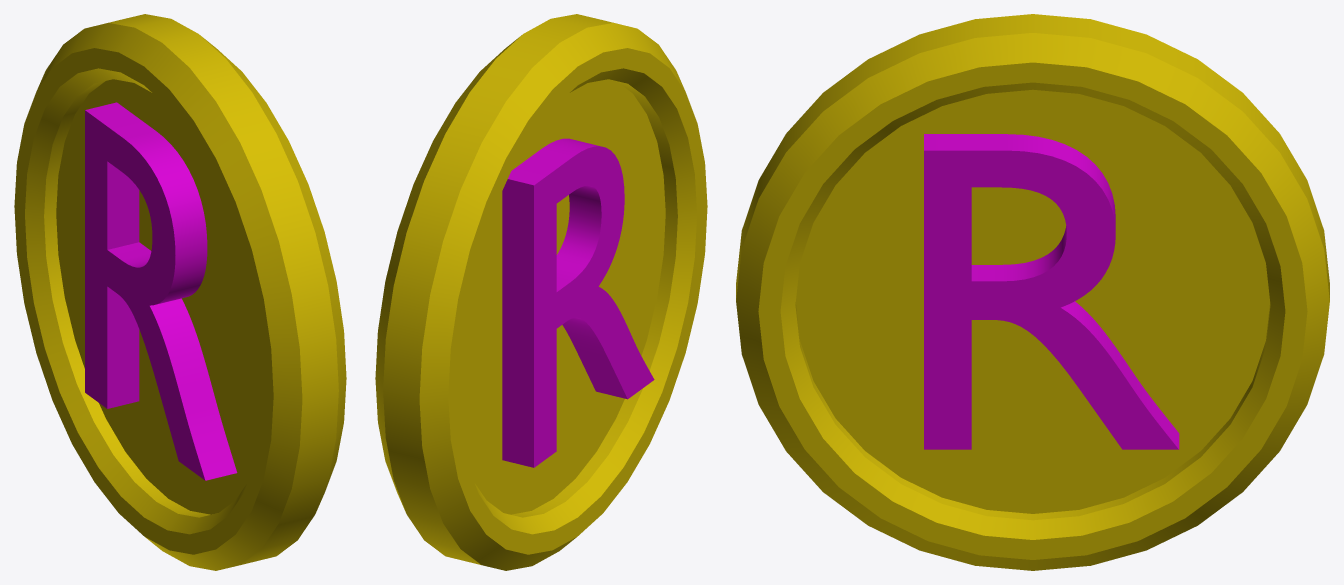
Rendered from Coin_UI.fbx.
3 renders of one model, left to right at view 1: azimuth 30°, elevation 25°; view 2: azimuth 150°, elevation 25°; view 3: azimuth 270°, elevation 25°, orthographic. The views are drawn at different scales.
Visible parts, largest first — view 1: CoinMesh; view 2: CoinMesh; view 3: CoinMesh.
Part boxes in pixels (x1,y1,x2,y2): CoinMesh: (14,14,346,570); CoinMesh: (375,14,707,570); CoinMesh: (736,14,1329,570).
Size of the model in its own units: 72.6 by 400 by 400.
